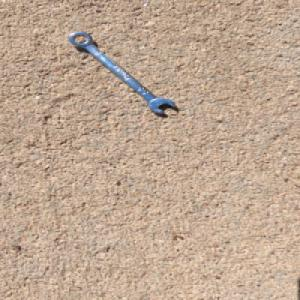Wrench: (67, 31, 178, 116)
